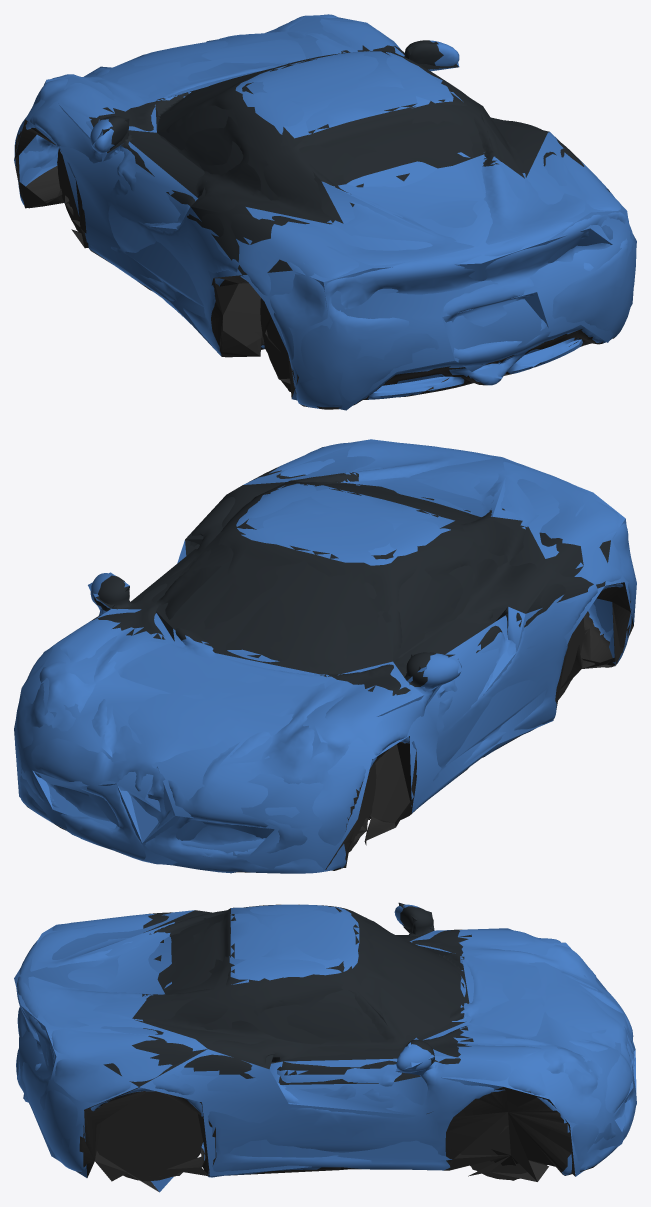
The model's file is alfa-romeo-4c.glb.
The picture shows the model from 3 angles, top to bottom: view 1: azimuth 30°, elevation 25°; view 2: azimuth 150°, elevation 25°; view 3: azimuth 270°, elevation 25°; orthographic projection. The views are drawn at different scales.
Parts seen in each view (by area): view 1: body, far; view 2: body, far; view 3: body, far.
Boxes of the visible parts, x1,y1,x2,y2 form: body: (14,14,636,409); far: (14,16,636,410); body: (15,442,634,873); far: (14,439,636,869); body: (16,904,636,1181); far: (14,902,636,1192).
Bounding box in the file's own units: 2.41 × 1.43 × 4.02.
